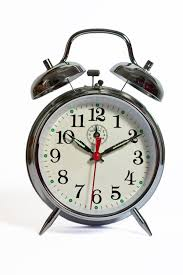alarm_clock: (22, 28, 165, 234)
